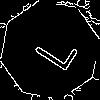L: (25, 25, 79, 74)
